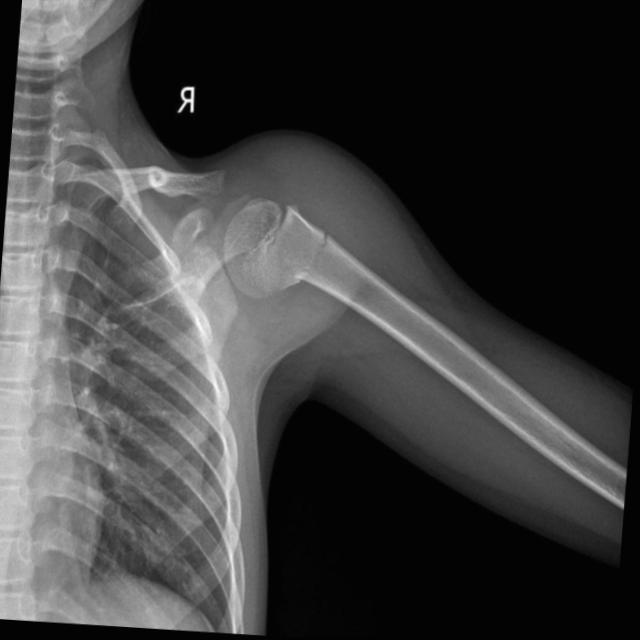Transverse Displaced: (289, 212, 359, 306)
